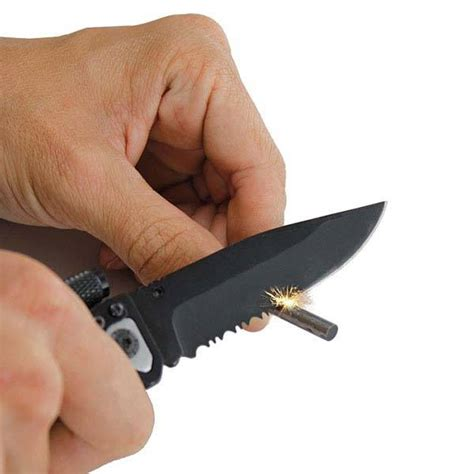knife: (128, 199, 398, 371)
